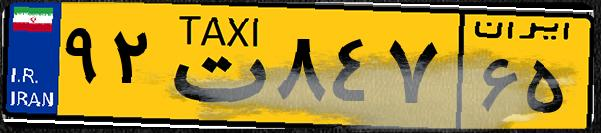2: (110, 28, 158, 98)
4: (330, 28, 385, 110)
5: (525, 38, 570, 115)
6: (475, 38, 525, 113)
7: (385, 28, 445, 110)
8: (270, 28, 330, 110)
9: (57, 26, 110, 100)
ت: (158, 12, 270, 120)
